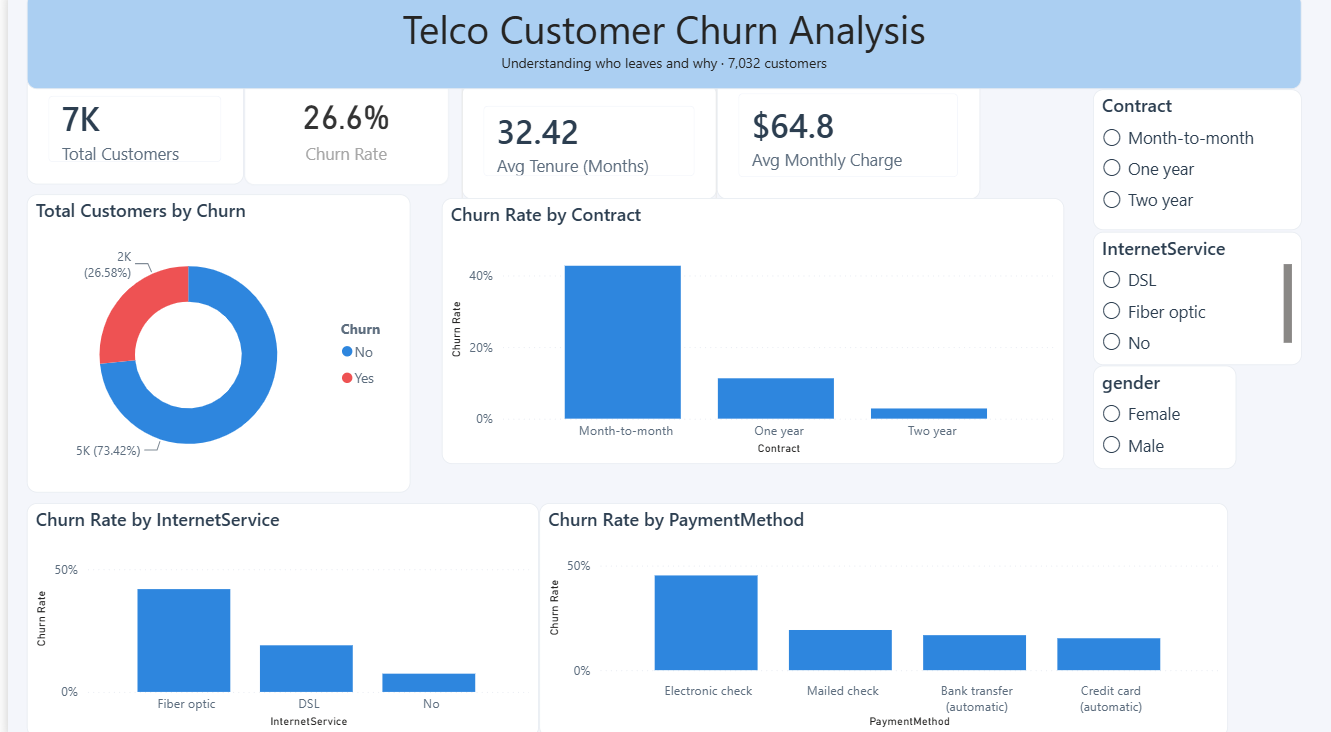

The dashboard page shown, as its layout file describes it:
{"tool":"powerbi","page":{"name":"Page 1","canvas":[1280,720],"ordinal":0},"visuals":[{"type":"cardVisual","fields":{"Data":["Telco-Customer-Churn.Total Customers"]},"box":[18.1,78.4,209.9,106.2],"z":0},{"type":"advanceCardE03760C5AB684758B56AA29F9E6C257B","fields":{"mainMeasure":["Telco-Customer-Churn.Churn Rate"]},"box":[228,78.4,197.9,107.4],"z":1000},{"type":"cardVisual","fields":{"Data":["Telco-Customer-Churn.Avg Tenure (Months)"]},"box":[437.9,88.1,246.1,111],"z":2000},{"type":"cardVisual","fields":{"Data":["Telco-Customer-Churn.Avg Monthly Charge"]},"box":[684.1,76,254.6,123.1],"z":3000},{"type":"donutChart","fields":{"Category":["Telco-Customer-Churn.Churn"],"Y":["Telco-Customer-Churn.Total Customers"]},"box":[18.1,194.2,370.4,288.3],"z":4000},{"type":"clusteredColumnChart","fields":{"Category":["Telco-Customer-Churn.Contract"],"Y":["Telco-Customer-Churn.Churn Rate"]},"box":[418.6,197.9,600.8,257],"z":5000},{"type":"clusteredColumnChart","fields":{"Category":["Telco-Customer-Churn.InternetService"],"Y":["Telco-Customer-Churn.Churn Rate"]},"box":[18.2,492.5,494.3,226.3],"z":6000},{"type":"clusteredColumnChart","fields":{"Category":["Telco-Customer-Churn.PaymentMethod"],"Y":["Telco-Customer-Churn.Churn Rate"]},"box":[512.5,492.5,664.7,226.3],"z":7000},{"type":"listSlicer","fields":{"Values":["Telco-Customer-Churn.Contract"]},"box":[1047.2,92.9,201.5,136.3],"z":8000},{"type":"listSlicer","fields":{"Values":["Telco-Customer-Churn.InternetService"]},"box":[1047.2,230.4,201.5,129.1],"z":9000},{"type":"listSlicer","fields":{"Values":["Telco-Customer-Churn.gender"]},"box":[1047.2,359.5,138.7,100.1],"z":10000},{"type":"textbox","box":[18.1,0,1230.6,92.9],"z":11000}]}

Visuals, with their boxes in screenshot pixels (x1, y1, x2, y2), scaled from the page's 1280x720 canvas onto the 1331x732 screenshot:
cardVisual - Telco-Customer-Churn.Total Customers: <region>19, 80, 237, 188</region>
advanceCardE03760C5AB684758B56AA29F9E6C257B - Telco-Customer-Churn.Churn Rate: <region>237, 80, 443, 189</region>
cardVisual - Telco-Customer-Churn.Avg Tenure (Months): <region>455, 90, 711, 202</region>
cardVisual - Telco-Customer-Churn.Avg Monthly Charge: <region>711, 77, 976, 202</region>
donutChart - Telco-Customer-Churn.Churn x Telco-Customer-Churn.Total Customers: <region>19, 197, 404, 491</region>
clusteredColumnChart - Telco-Customer-Churn.Contract x Telco-Customer-Churn.Churn Rate: <region>435, 201, 1060, 462</region>
clusteredColumnChart - Telco-Customer-Churn.InternetService x Telco-Customer-Churn.Churn Rate: <region>19, 501, 533, 731</region>
clusteredColumnChart - Telco-Customer-Churn.PaymentMethod x Telco-Customer-Churn.Churn Rate: <region>533, 501, 1224, 731</region>
listSlicer - Telco-Customer-Churn.Contract: <region>1089, 94, 1298, 233</region>
listSlicer - Telco-Customer-Churn.InternetService: <region>1089, 234, 1298, 365</region>
listSlicer - Telco-Customer-Churn.gender: <region>1089, 365, 1233, 467</region>
textbox: <region>19, 0, 1298, 94</region>
